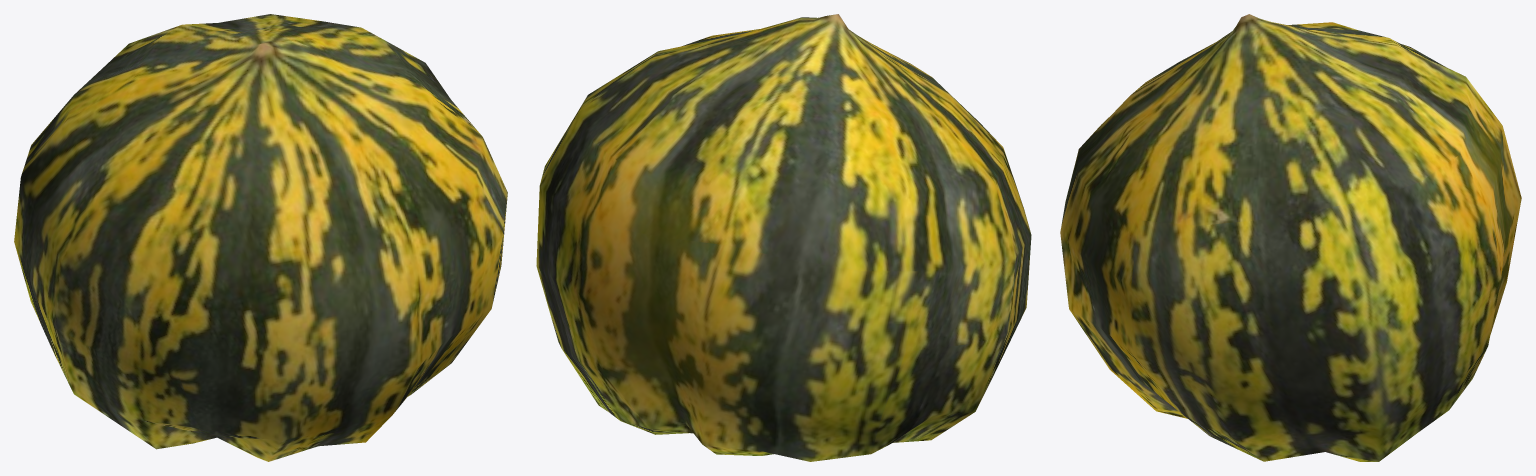
File: A44_Squash_low.fbx
3 renders of one model, left to right at view 1: azimuth 30°, elevation 25°; view 2: azimuth 150°, elevation 25°; view 3: azimuth 270°, elevation 25°, orthographic. The views are drawn at different scales.
Visible parts, largest first — view 1: A44_Squash_low; view 2: A44_Squash_low; view 3: A44_Squash_low.
Part boxes in pixels (x1=…): A44_Squash_low: x1=14, y1=14, x2=507, y2=461; A44_Squash_low: x1=536, y1=14, x2=1031, y2=461; A44_Squash_low: x1=1060, y1=14, x2=1521, y2=461.
Size of the model in its own units: 17.79 by 17.12 by 15.8.
1 material, 1 textured.
